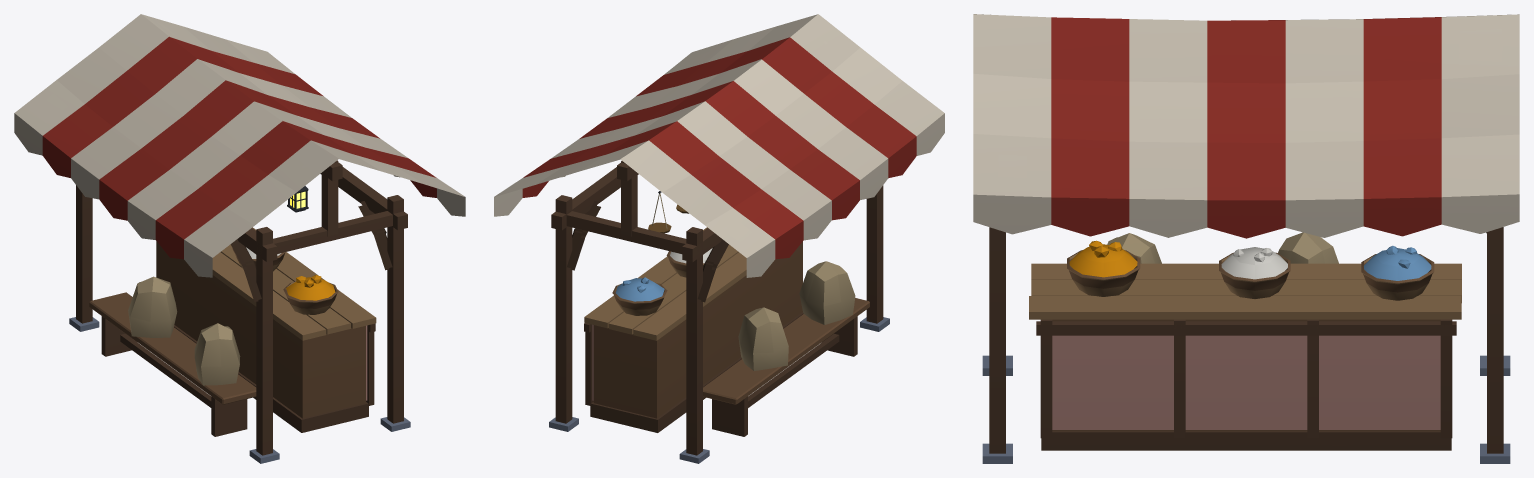
File: market_stand_02.glb
3 views of the same model, side by side, from view 1: azimuth 30°, elevation 25°; view 2: azimuth 150°, elevation 25°; view 3: azimuth 270°, elevation 25° (orthographic). The views are drawn at different scales.
Parts seen in each view (by area): view 1: isl_market_stand_02; view 2: isl_market_stand_02; view 3: isl_market_stand_02.
Boxes of the visible parts, box(x1,y1,x2,y2) form: isl_market_stand_02: box(14, 14, 465, 463); isl_market_stand_02: box(494, 14, 944, 463); isl_market_stand_02: box(973, 14, 1519, 463).
Bounding box in the file's own units: 2.4 × 2.62 × 3.25.
